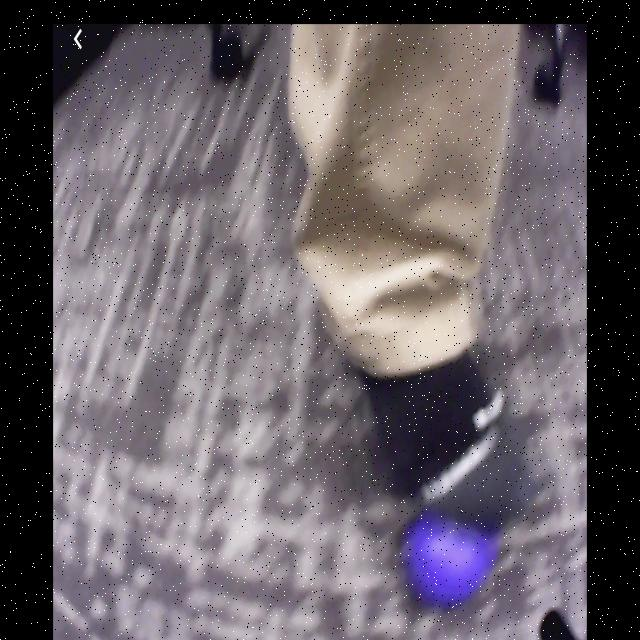ball: (404, 514, 500, 603)
